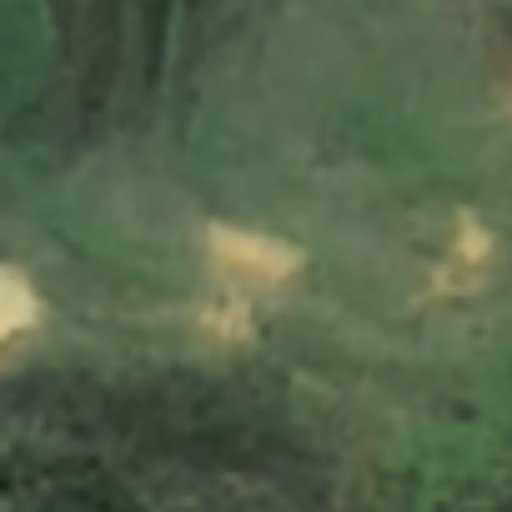landslide: (201, 216, 308, 338), (453, 204, 492, 269)
